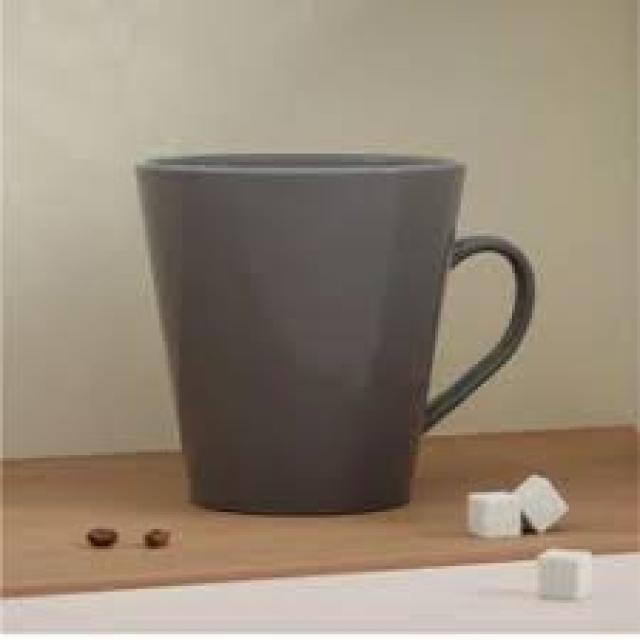taza: (132, 152, 536, 515)
